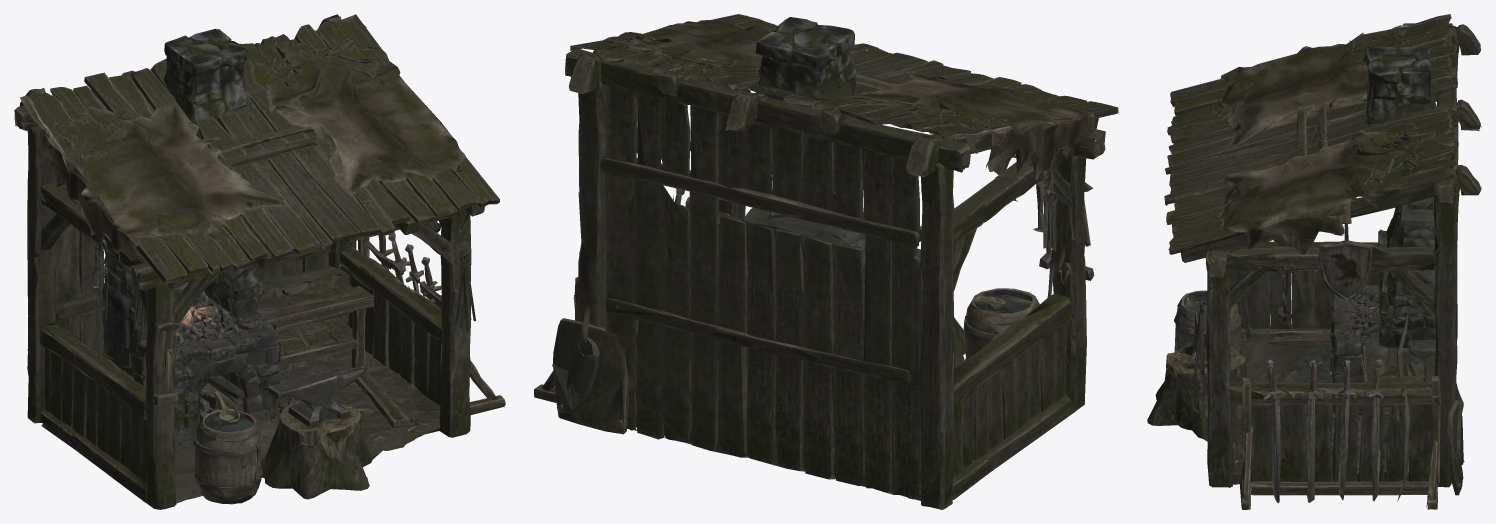
The model's file is forge.glb.
3 renders of one model, left to right at view 1: azimuth 30°, elevation 25°; view 2: azimuth 150°, elevation 25°; view 3: azimuth 270°, elevation 25°, orthographic. The views are drawn at different scales.
Parts seen in each view (by area): view 1: Mesh_0; view 2: Mesh_0; view 3: Mesh_0.
Part boxes in pixels (x1,y1,x2,y2): Mesh_0: [14, 14, 505, 509]; Mesh_0: [534, 14, 1118, 509]; Mesh_0: [1147, 14, 1481, 509].
Bounding box in the file's own units: 4.34 × 3.8 × 3.29.
Materials: 1 (1 with a texture image).
